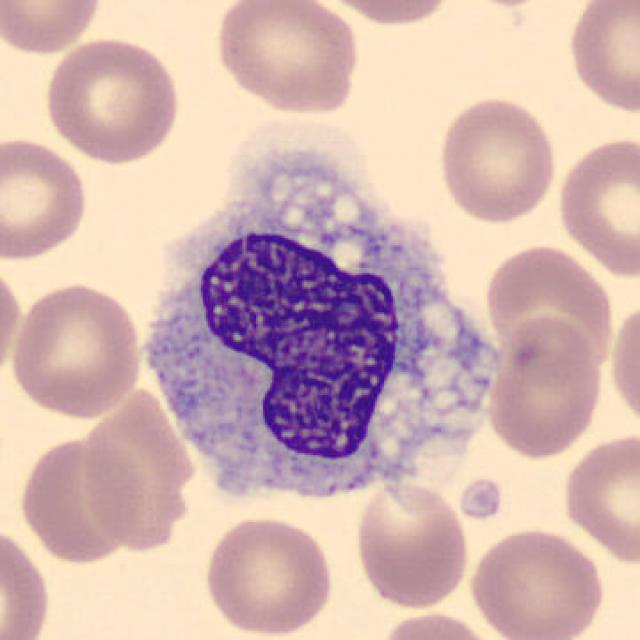Monocyte: (128, 141, 507, 515)
RBC: (76, 381, 200, 557), (7, 276, 146, 419), (482, 240, 618, 377), (41, 34, 183, 165), (209, 0, 364, 116), (484, 316, 606, 462), (14, 430, 146, 564), (199, 513, 338, 638), (466, 523, 608, 640), (434, 94, 560, 225), (350, 478, 473, 610), (553, 132, 640, 280), (0, 134, 92, 262), (558, 428, 638, 568), (563, 0, 640, 116), (498, 312, 604, 388), (0, 520, 55, 640), (0, 0, 105, 58), (606, 298, 640, 434), (310, 0, 462, 30), (374, 608, 499, 640), (0, 259, 25, 388), (455, 0, 564, 9)
